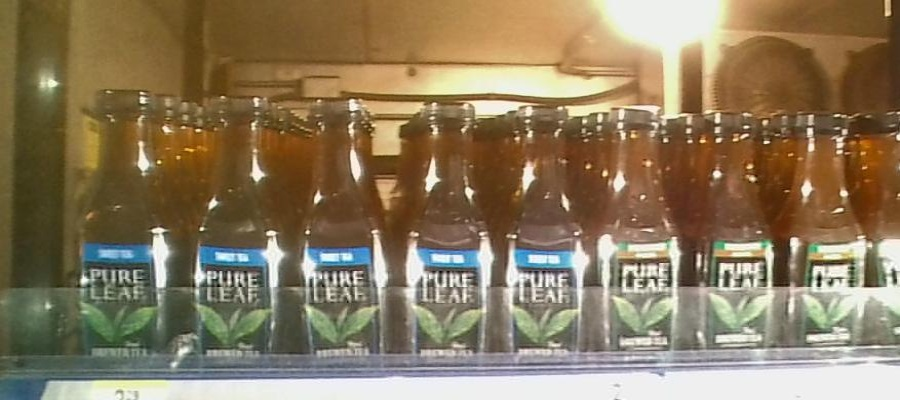bottle: (74, 84, 183, 376), (297, 92, 395, 372), (189, 88, 289, 361), (400, 99, 498, 372), (598, 89, 689, 361), (505, 100, 594, 370), (694, 102, 783, 359), (785, 102, 866, 361), (870, 104, 898, 362)
